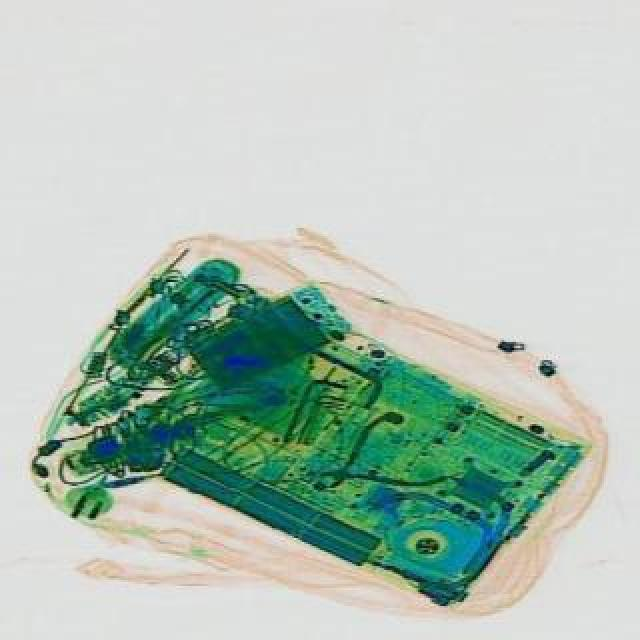wrench: (298, 400, 446, 520)
